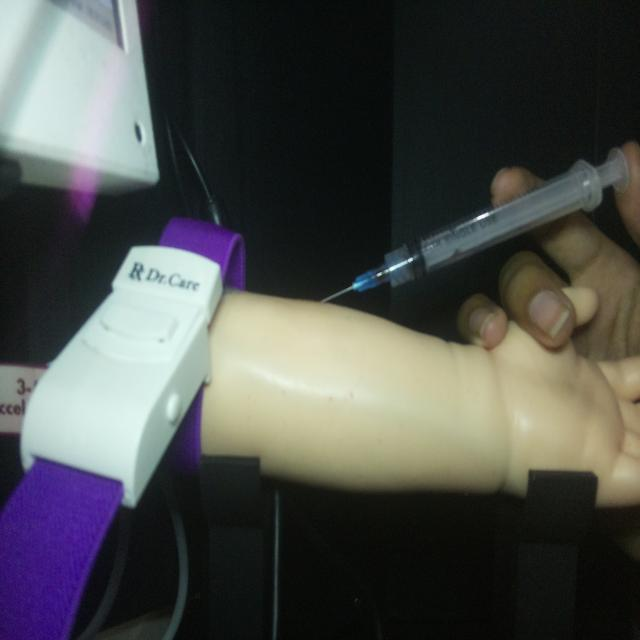16 degrees: (318, 142, 630, 306)
